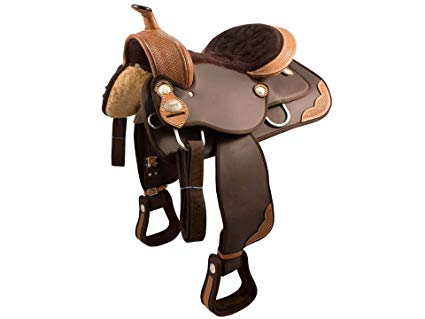saddle: (73, 6, 349, 274)
